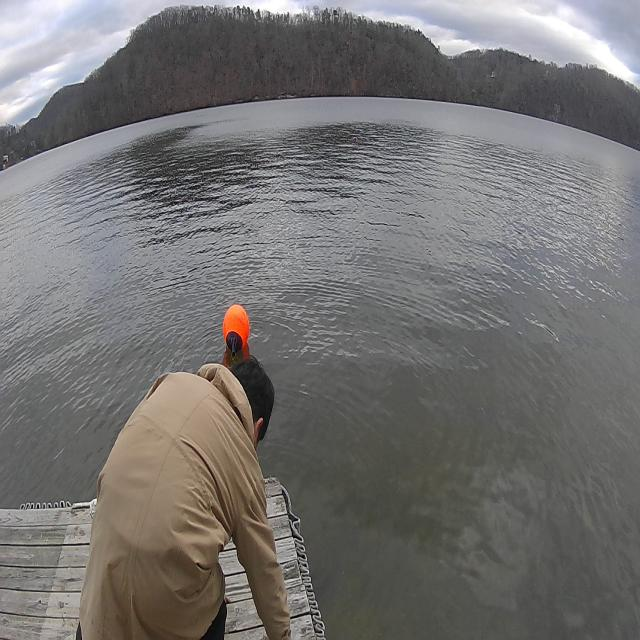Buoy: (221, 302, 250, 356)
